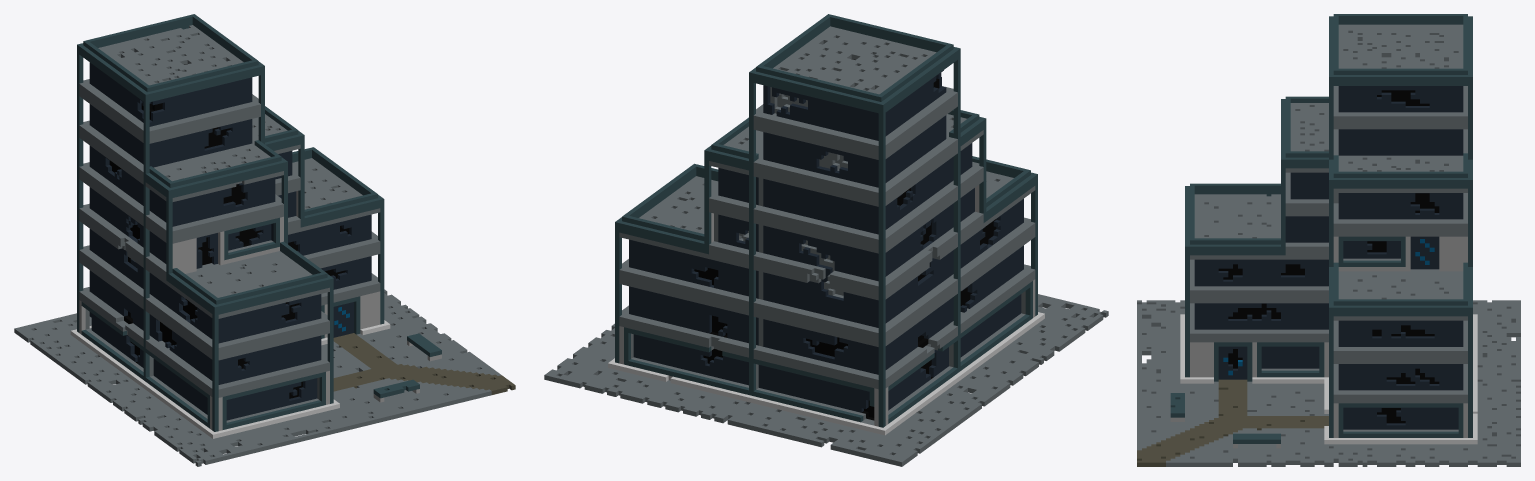
The model's file is building_big_5_damaged.obj.
3 views of the same model, side by side, from view 1: azimuth 30°, elevation 25°; view 2: azimuth 150°, elevation 25°; view 3: azimuth 270°, elevation 25° (orthographic). The views are drawn at different scales.
Size of the model in its own units: 8 by 7.2 by 8.
1 material, 1 textured.
